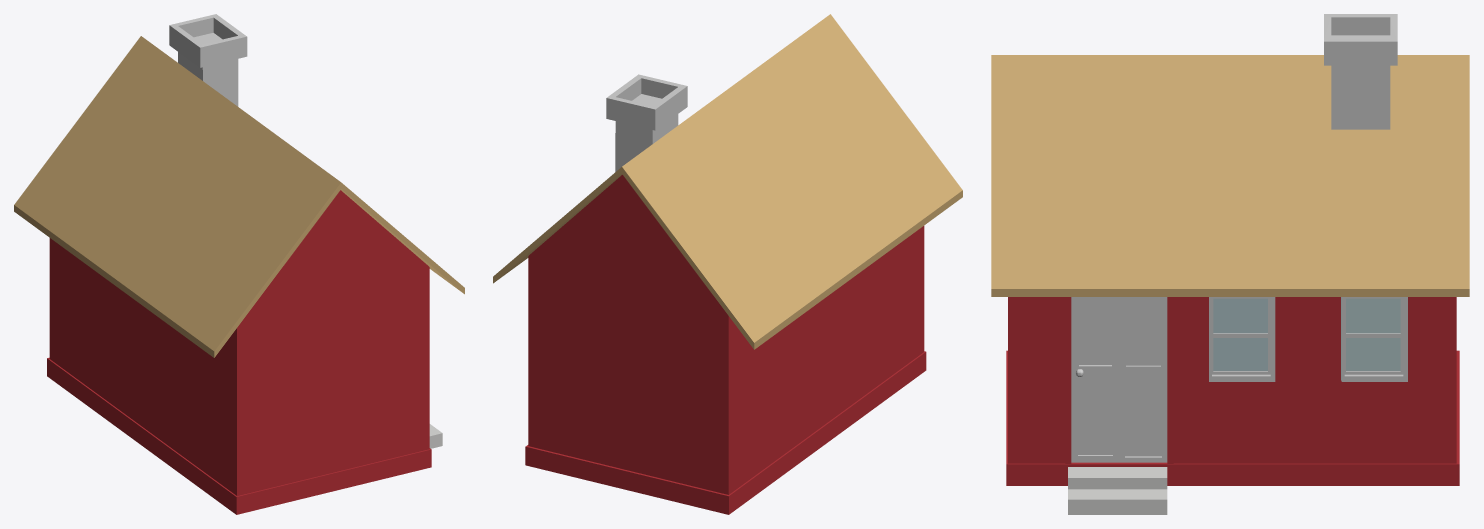
File: house_red2.dae
3 views of the same model, side by side, from view 1: azimuth 30°, elevation 25°; view 2: azimuth 150°, elevation 25°; view 3: azimuth 270°, elevation 25° (orthographic). The views are drawn at different scales.
Visible parts, largest first — view 1: Mesh_003_janela001_Cube_005; view 2: Mesh_003_janela001_Cube_005; view 3: Mesh_003_janela001_Cube_005.
Part boxes in pixels (bbox=[...]): Mesh_003_janela001_Cube_005: bbox=[14, 14, 464, 514]; Mesh_003_janela001_Cube_005: bbox=[493, 14, 962, 514]; Mesh_003_janela001_Cube_005: bbox=[991, 14, 1469, 514].
Size of the model in its own units: 3.34 by 4.45 by 4.32.
10 materials, 1 textured.
